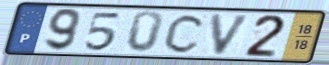0: (125, 10, 166, 55)
2: (243, 13, 289, 59)
5: (82, 11, 124, 52)
9: (42, 7, 83, 53)
C: (162, 13, 208, 55)
V: (210, 13, 255, 57)
